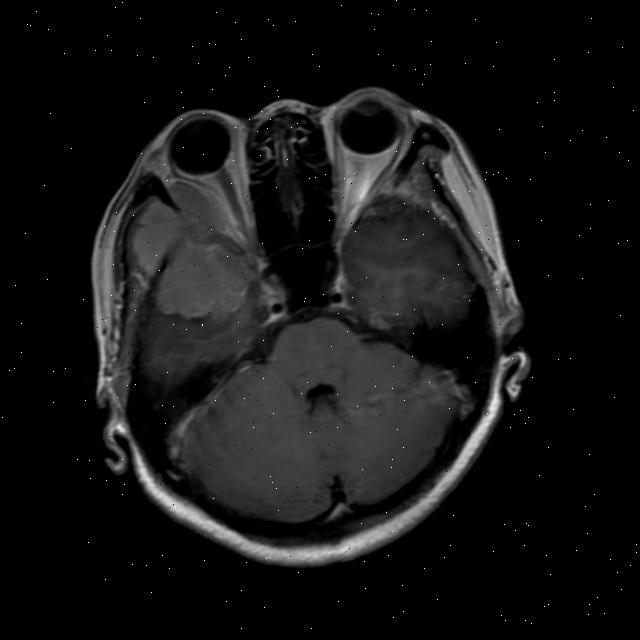Meningioma: (144, 232, 257, 332)
